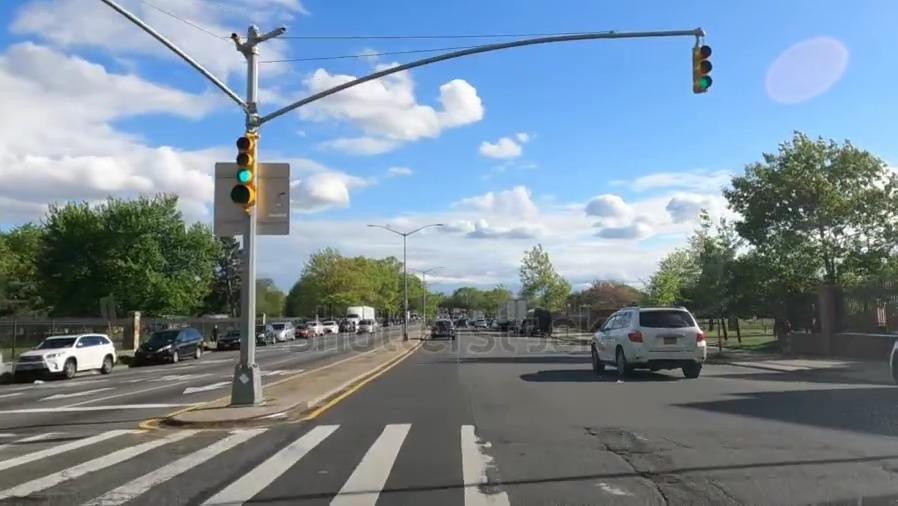car: (586, 307, 707, 374), (14, 335, 114, 378), (133, 331, 201, 363), (429, 316, 457, 342), (217, 330, 243, 351)
pedestrian: (0, 434, 897, 505)
person: (212, 323, 219, 337)
traffic light: (233, 127, 259, 217), (685, 42, 715, 96)
